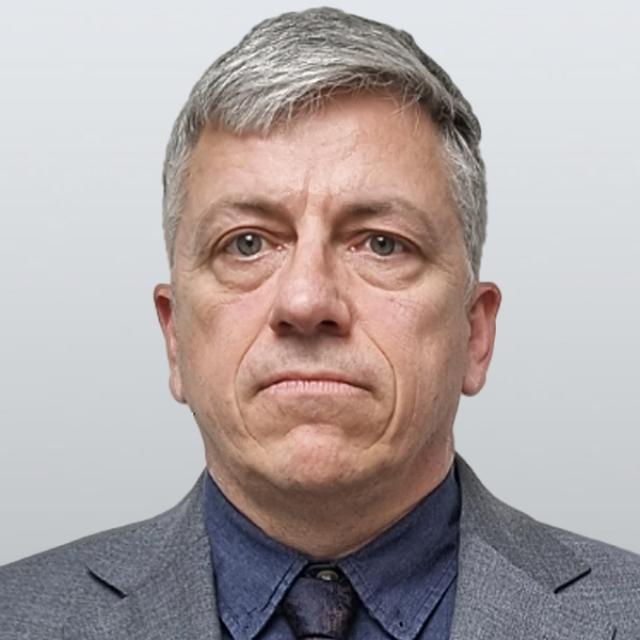frown_line: (295, 188, 315, 216)
gummy_smile: (366, 329, 404, 387), (230, 321, 262, 377)
sad_smile: (231, 396, 261, 448), (374, 396, 401, 452)
